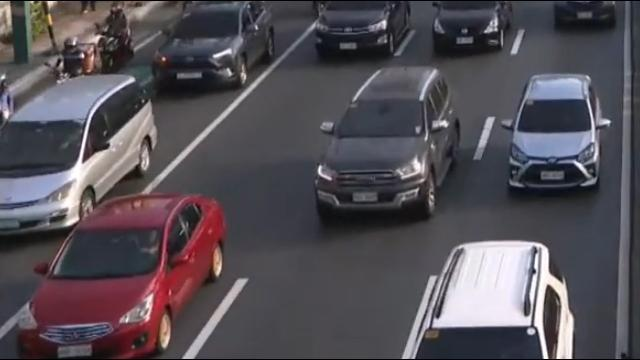car: (12, 180, 231, 359), (0, 70, 164, 244), (299, 59, 460, 229), (384, 231, 585, 360), (494, 62, 615, 196), (153, 0, 287, 99), (309, 0, 418, 57), (429, 0, 524, 59)
motorcycle: (99, 2, 136, 80), (49, 24, 102, 78)
